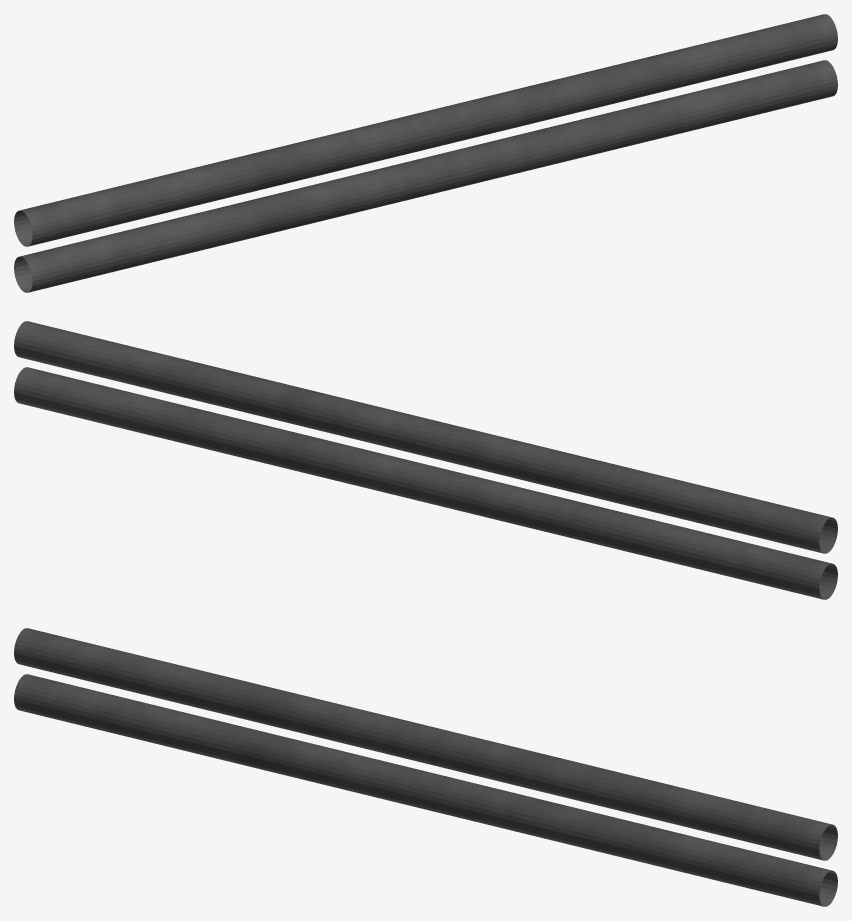
Rendered from ruryscienne.obj.
3 views of the same model, one above another, from view 1: azimuth 30°, elevation 25°; view 2: azimuth 150°, elevation 25°; view 3: azimuth 330°, elevation 25° (orthographic).
Parts seen in each view (by area): view 1: rurki.NR2_Cylinder.007; view 2: rurki.NR2_Cylinder.007; view 3: rurki.NR2_Cylinder.007.
Part boxes in pixels (x1,y1,x2,y2): rurki.NR2_Cylinder.007: [14, 14, 837, 292]; rurki.NR2_Cylinder.007: [14, 321, 837, 599]; rurki.NR2_Cylinder.007: [14, 628, 837, 906].
Size of the model in its own units: 10 by 0.9467 by 0.4.
1 material, 1 textured.
